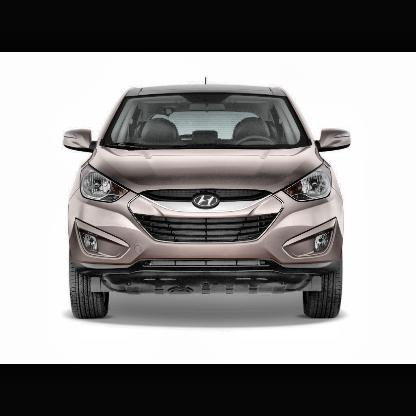Hyundai Tucson SUV 2012: (63, 77, 350, 320)
